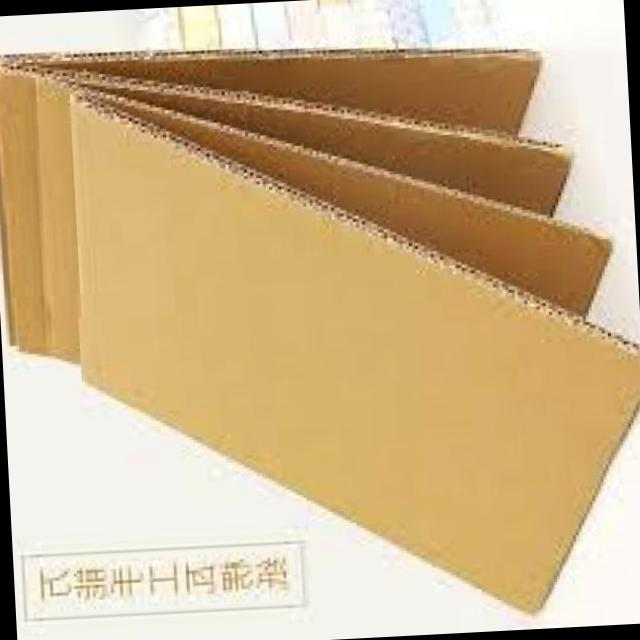cardboard paper: (0, 50, 640, 609)
